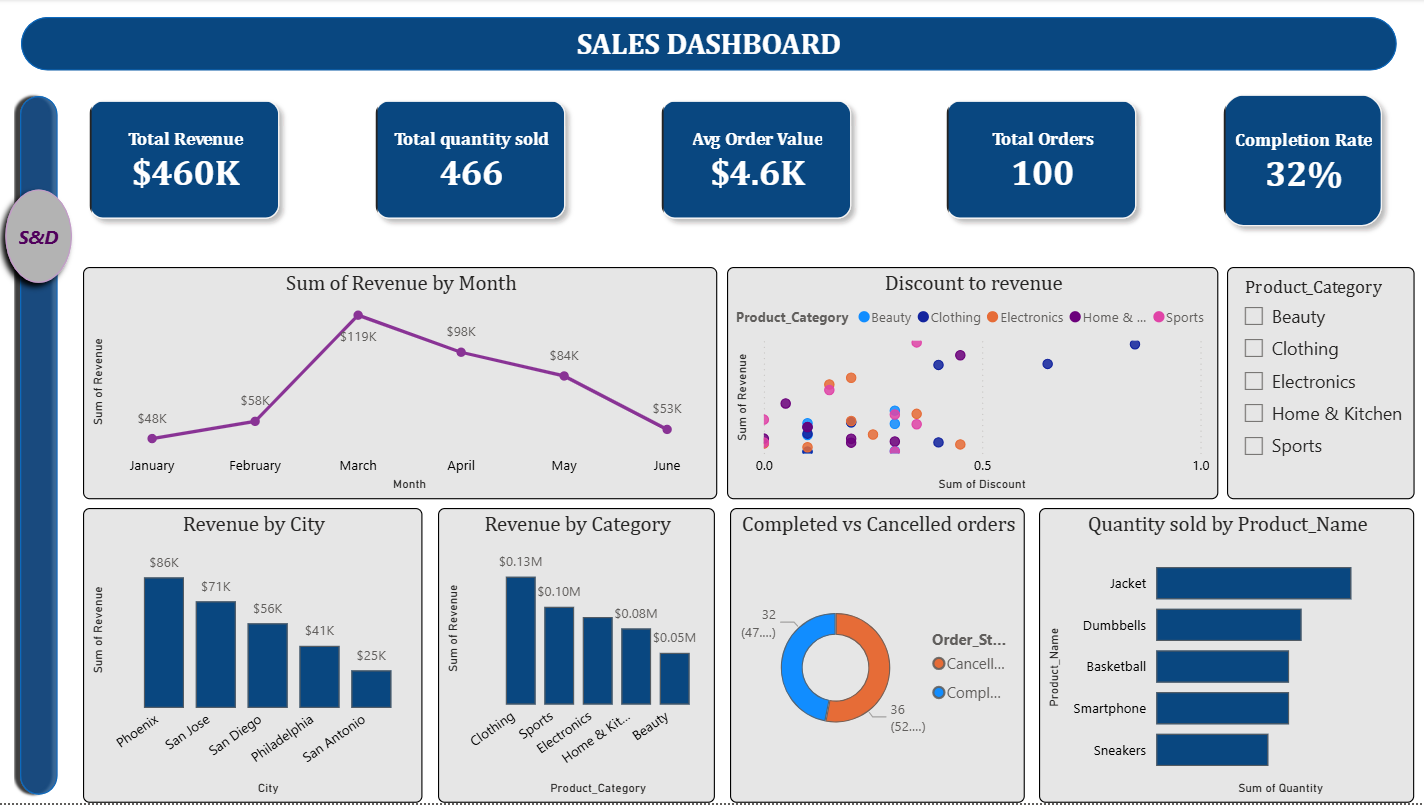

Layout of this report page (visuals, bound fields, positions):
{"tool":"powerbi","page":{"name":"Page 1","canvas":[1280,720],"ordinal":0},"visuals":[{"type":"clusteredColumnChart","title":"Revenue by City","fields":{"Y":["Sum(US_Retail_Data.Revenue)"],"Category":["US_Retail_Data.City"]},"box":[80,456,304,264],"z":0},{"type":"cardVisual","fields":{"Data":["Sum(US_Retail_Data.Quantity)"]},"box":[312.3,62.1,228,164],"z":1000},{"type":"cardVisual","fields":{"Data":["US_Retail_Data.Completion Rate"]},"box":[1072,56,200,176],"z":2000},{"type":"cardVisual","fields":{"Data":["Sum(US_Retail_Data.Revenue)"]},"box":[56.3,62.1,228,164],"z":3000},{"type":"cardVisual","fields":{"Data":["US_Retail_Data.AOV"]},"box":[568.3,62.1,228,164],"z":4000},{"type":"cardVisual","fields":{"Data":["CountNonNull(US_Retail_Data.Order_ID)"]},"box":[824.3,62.1,228,164],"z":5000},{"type":"lineChart","fields":{"Y":["Sum(US_Retail_Data.Revenue)"],"Category":["US_Retail_Data.Order_Date.Variation.Date Hierarchy.Year","US_Retail_Data.Order_Date.Variation.Date Hierarchy.Month"]},"box":[80,240,568,208],"z":6000},{"type":"clusteredColumnChart","title":"Revenue by Category","fields":{"Category":["US_Retail_Data.Product_Category"],"Y":["Sum(US_Retail_Data.Revenue)"]},"box":[397.3,456,248,264],"z":7000},{"type":"donutChart","title":"Completed vs Cancelled orders","fields":{"Y":["CountNonNull(US_Retail_Data.Order_ID)"],"Series":["US_Retail_Data.Order_Status"]},"box":[658.7,456,264,264],"z":8000},{"type":"textbox","box":[1104,448,150,272],"z":9000},{"type":"shape","box":[24,16,1232,48],"z":10000},{"type":"shape","box":[16,80,48,640],"z":11000},{"type":"shape","box":[0,160,80,104],"z":12000},{"type":"clusteredBarChart","title":" Quantity sold by Product_Name","fields":{"Category":["US_Retail_Data.Product_Name"],"Y":["Sum(US_Retail_Data.Quantity)"]},"box":[936,456,336,264],"z":13000},{"type":"scatterChart","title":"Discount to revenue","fields":{"X":["Sum(US_Retail_Data.Discount)"],"Y":["Sum(US_Retail_Data.Revenue)"],"Category":["US_Retail_Data.Quantity"],"Series":["US_Retail_Data.Product_Category"]},"box":[656,240,440,208],"z":14000},{"type":"slicer","fields":{"Values":["US_Retail_Data.Product_Category"]},"box":[1104,240,168,208],"z":15000}]}

Visuals, with their boxes in screenshot pixels (x1, y1, x2, y2), scaled from the page's 1280x720 canvas onto the 1424x805 screenshot:
"Revenue by City" clusteredColumnChart: pyautogui.locateOnScreen(89, 510, 427, 804)
cardVisual - Sum(US_Retail_Data.Quantity): pyautogui.locateOnScreen(347, 69, 601, 253)
cardVisual - US_Retail_Data.Completion Rate: pyautogui.locateOnScreen(1193, 63, 1415, 259)
cardVisual - Sum(US_Retail_Data.Revenue): pyautogui.locateOnScreen(63, 69, 316, 253)
cardVisual - US_Retail_Data.AOV: pyautogui.locateOnScreen(632, 69, 886, 253)
cardVisual - CountNonNull(US_Retail_Data.Order_ID): pyautogui.locateOnScreen(917, 69, 1171, 253)
lineChart - Sum(US_Retail_Data.Revenue) x US_Retail_Data.Order_Date.Variation.Date Hierarchy.Year: pyautogui.locateOnScreen(89, 268, 721, 501)
"Revenue by Category" clusteredColumnChart: pyautogui.locateOnScreen(442, 510, 718, 804)
"Completed vs Cancelled orders" donutChart: pyautogui.locateOnScreen(733, 510, 1027, 804)
textbox: pyautogui.locateOnScreen(1228, 501, 1395, 804)
shape: pyautogui.locateOnScreen(27, 18, 1397, 72)
shape: pyautogui.locateOnScreen(18, 89, 71, 804)
shape: pyautogui.locateOnScreen(0, 179, 89, 295)
" Quantity sold by Product_Name" clusteredBarChart: pyautogui.locateOnScreen(1041, 510, 1415, 804)
"Discount to revenue" scatterChart: pyautogui.locateOnScreen(730, 268, 1219, 501)
slicer - US_Retail_Data.Product_Category: pyautogui.locateOnScreen(1228, 268, 1415, 501)
